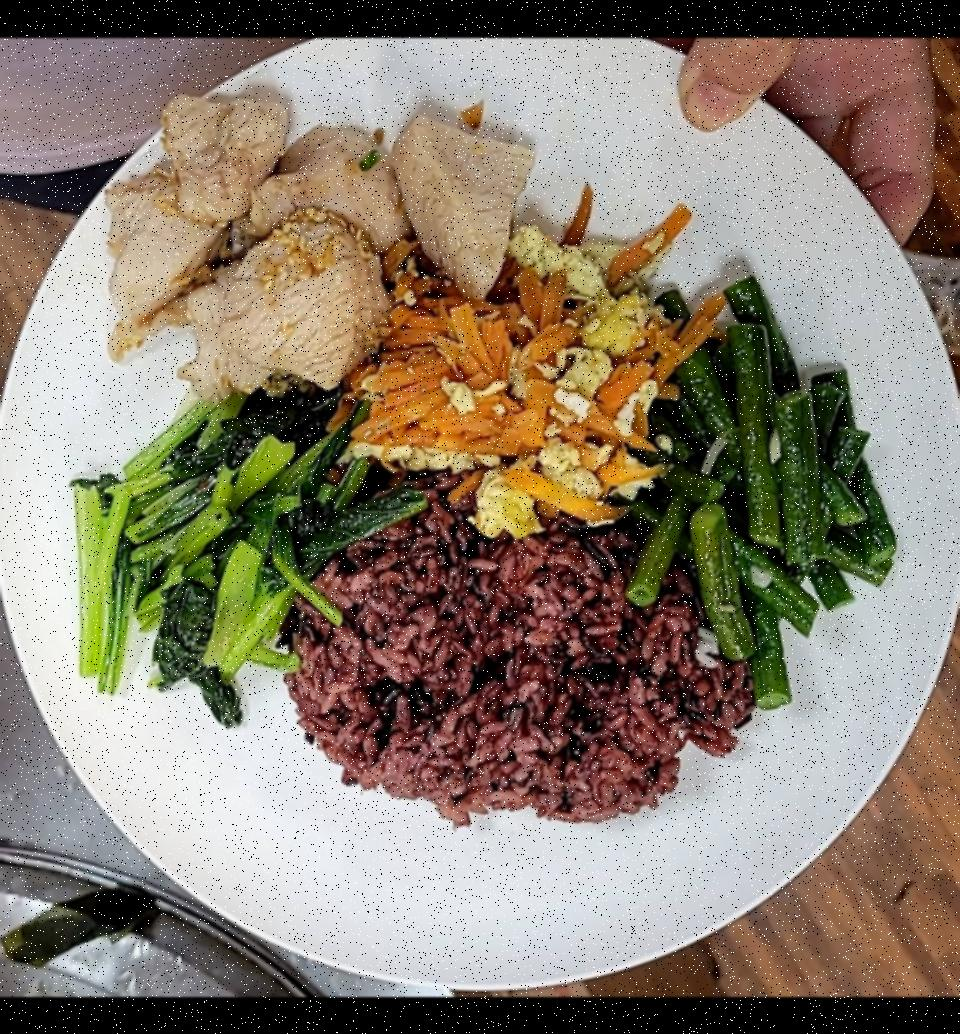plate: (0, 45, 960, 994)
purple rice: (271, 452, 723, 822)
scallion chicken: (93, 60, 538, 410)
side dish: (54, 376, 402, 720), (333, 219, 706, 532), (638, 290, 888, 702)
